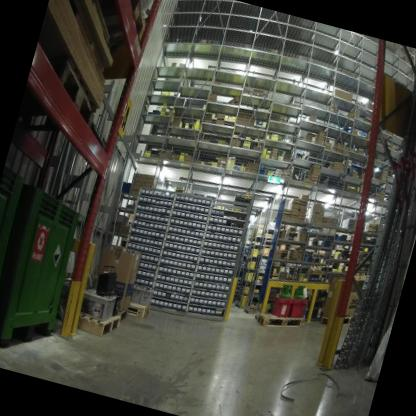pallet: (40, 52, 114, 126), (53, 293, 129, 349), (92, 0, 155, 43), (250, 302, 308, 342), (62, 0, 121, 34), (318, 305, 361, 336), (120, 294, 155, 323)
small_load_carrier: (269, 291, 312, 323)
